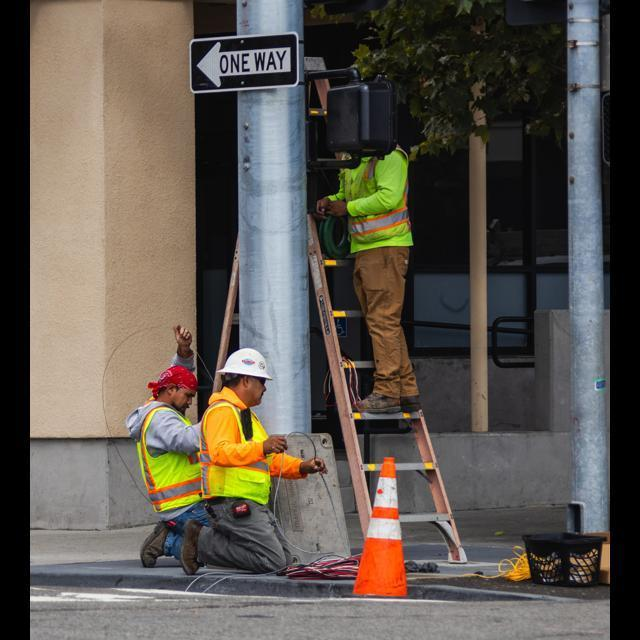helmet: (216, 348, 272, 386)
safety_vest: (205, 392, 302, 509), (339, 144, 417, 256), (128, 400, 210, 505)
